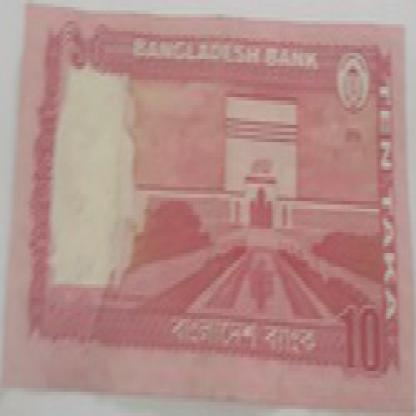Ten Taka: (331, 284, 388, 385), (63, 11, 120, 90)
